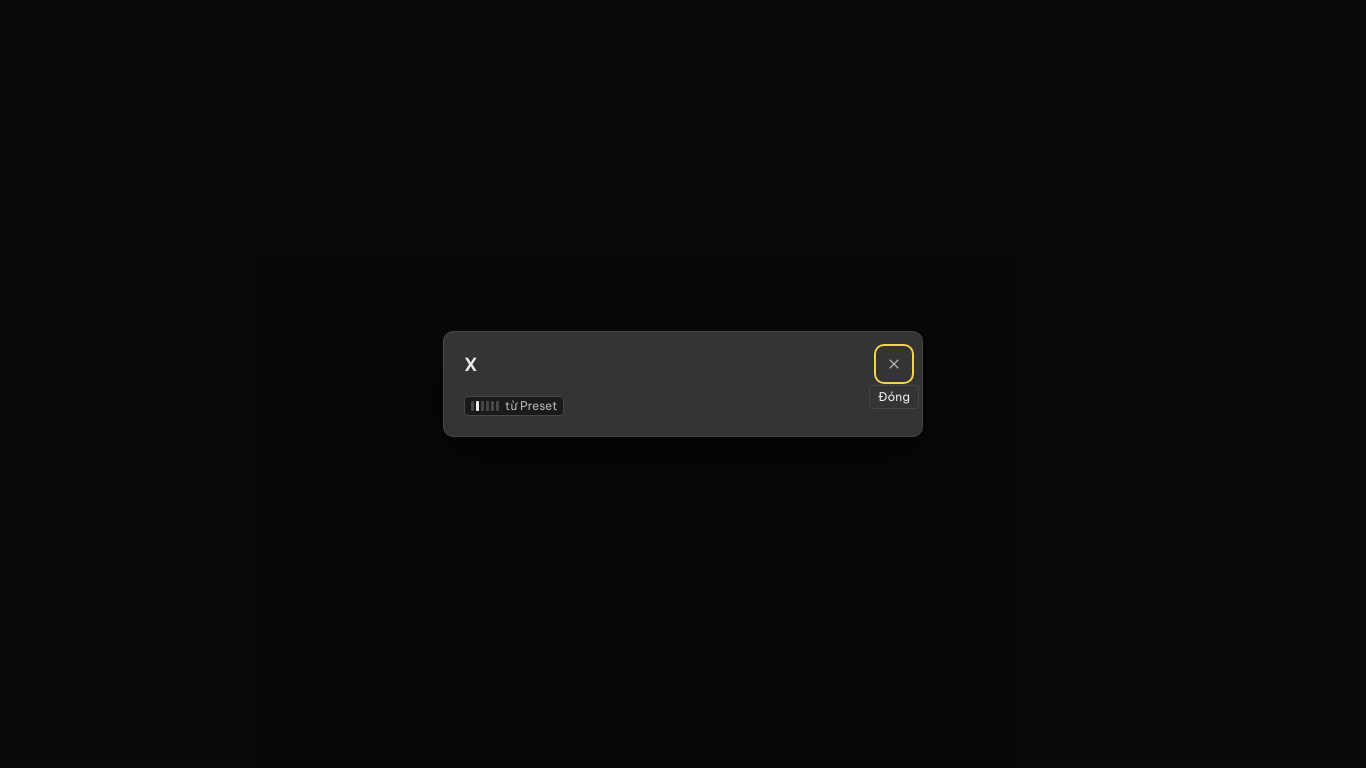
Test: Esc trong dialog › Esc trong popover SourceBadge bên trong Modal → chỉ đóng popover
The image size is (1366, 768).
Later steps or results of the test are not shown.
Click the button "từ Preset" at (514, 406), box [464,396,564,416]
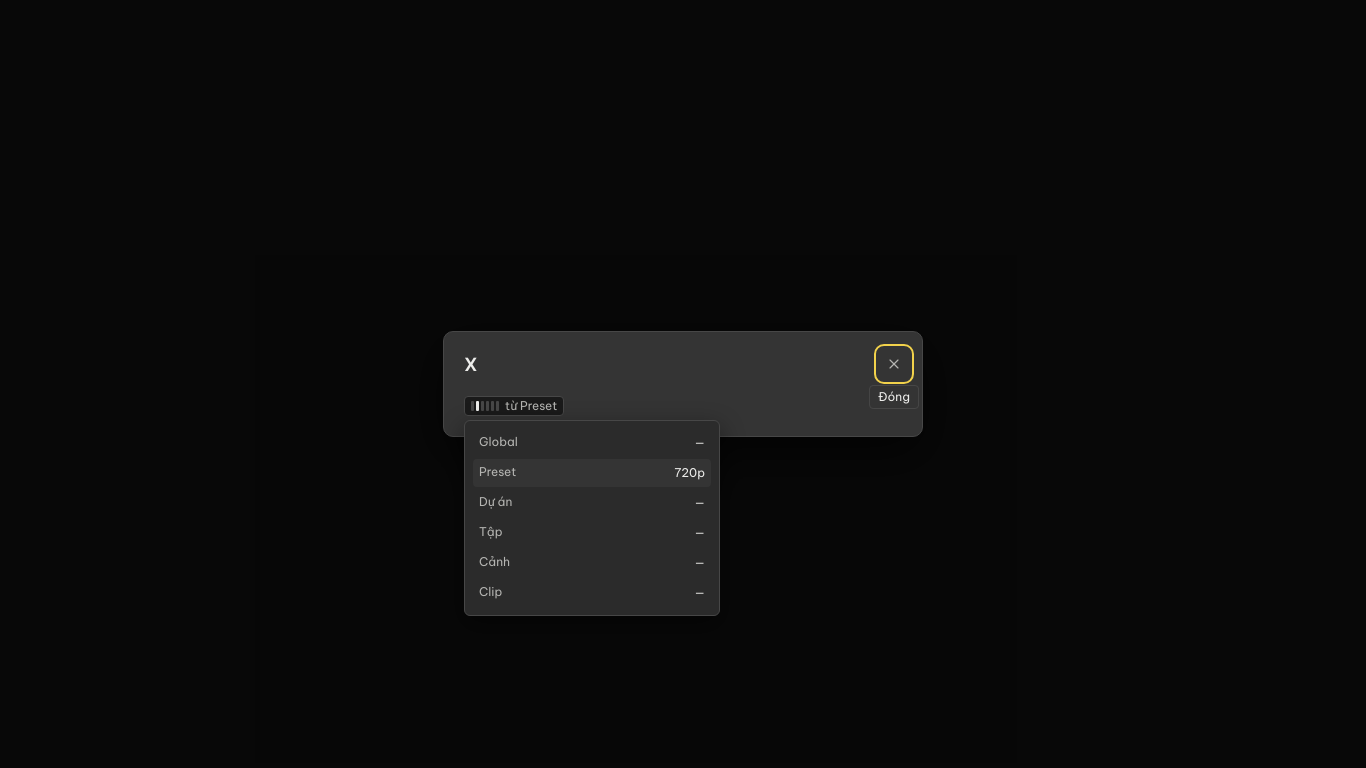
Check: the dialog named "Giá trị theo từng cấp" is shown, box [464,420,720,616]
